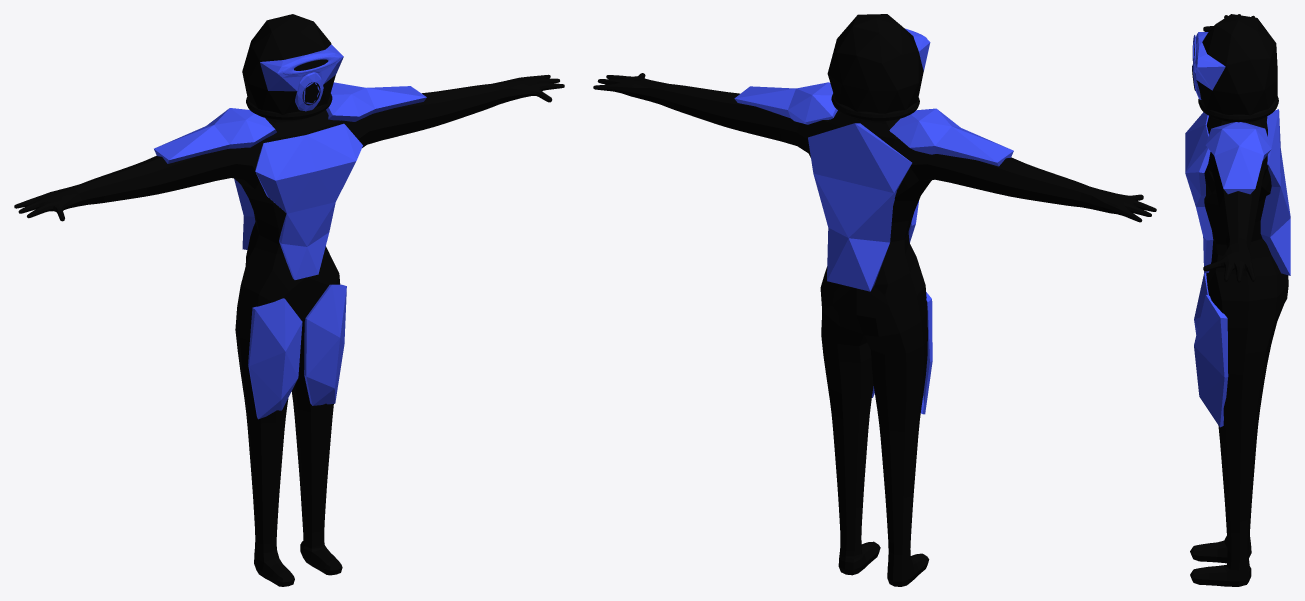
File: Michelblue.fbx
3 views of the same model, side by side, from view 1: azimuth 30°, elevation 25°; view 2: azimuth 150°, elevation 25°; view 3: azimuth 270°, elevation 25° (orthographic). The views are drawn at different scales.
Parts seen in each view (by area): view 1: Michel; view 2: Michel; view 3: Michel.
Boxes of the visible parts, x1,y1,x2,y2 form: Michel: [14, 14, 564, 586]; Michel: [593, 14, 1156, 586]; Michel: [1185, 14, 1290, 586].
Bounding box in the file's own units: 213 × 206 × 35.69.
1 material, 1 textured.
